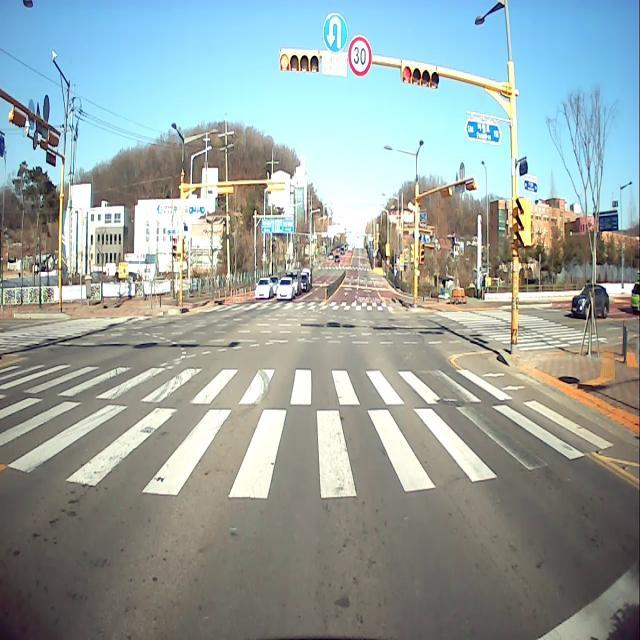crosswalk: (0, 363, 615, 501), (433, 308, 616, 352), (0, 318, 129, 351), (203, 301, 398, 313), (318, 266, 370, 271)
